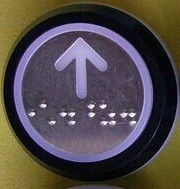Braille: (87, 100, 109, 126), (58, 100, 77, 127), (98, 99, 117, 126), (78, 100, 96, 127), (119, 99, 137, 126), (39, 100, 57, 126), (23, 100, 37, 126)
